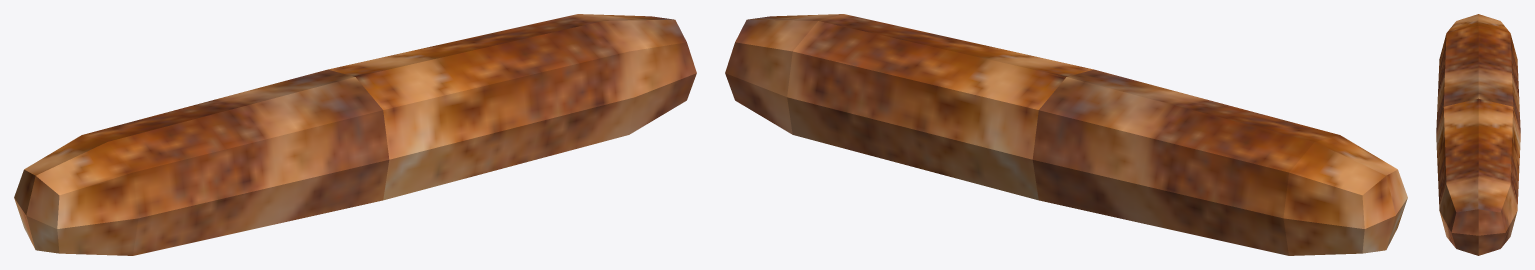
The model's file is parmesan-oregano.fbx.
The picture shows the model from 3 angles, left to right: view 1: azimuth 30°, elevation 25°; view 2: azimuth 150°, elevation 25°; view 3: azimuth 270°, elevation 25°; orthographic projection. The views are drawn at different scales.
Visible parts, largest first — view 1: parmesan-oregano; view 2: parmesan-oregano; view 3: parmesan-oregano.
Part boxes in pixels (bbox=[...]): parmesan-oregano: bbox=[14, 14, 696, 255]; parmesan-oregano: bbox=[725, 14, 1407, 255]; parmesan-oregano: bbox=[1436, 14, 1520, 255].
Size of the model in its own units: 1.17 by 0.2082 by 0.1968.
